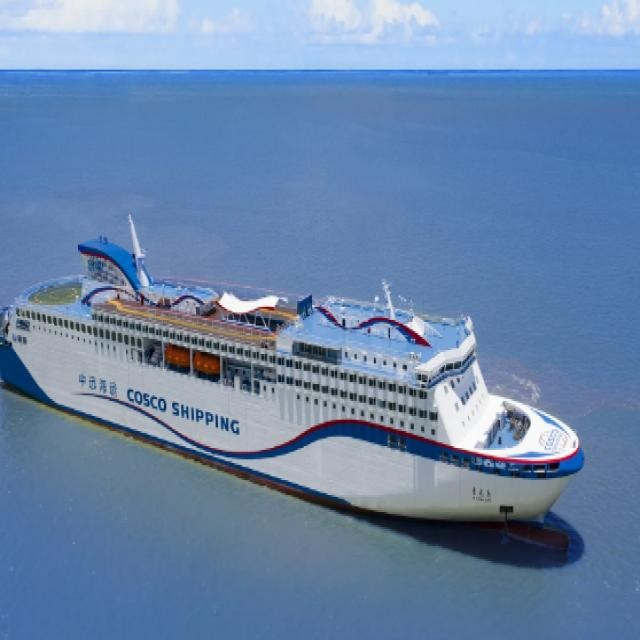houseboat: (0, 192, 592, 548)
